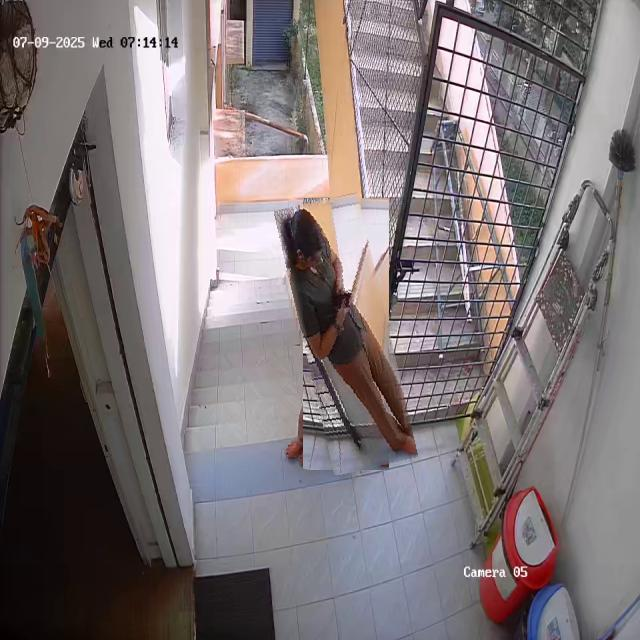person: (288, 195, 404, 473)
